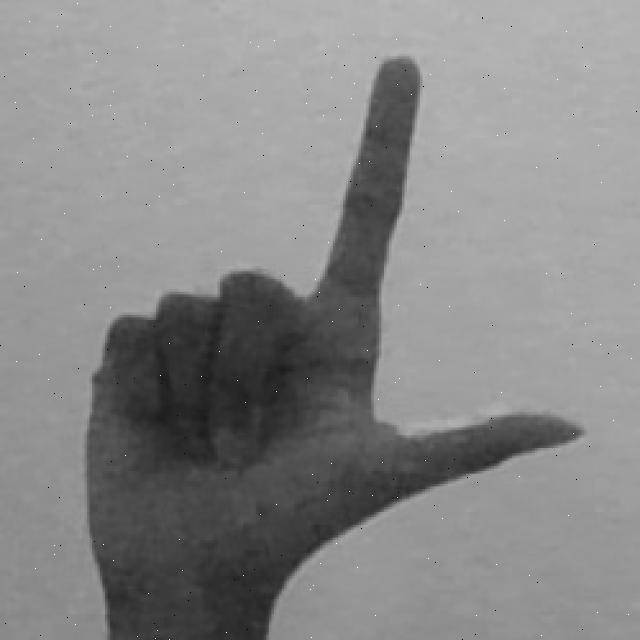L: (79, 48, 593, 640)
